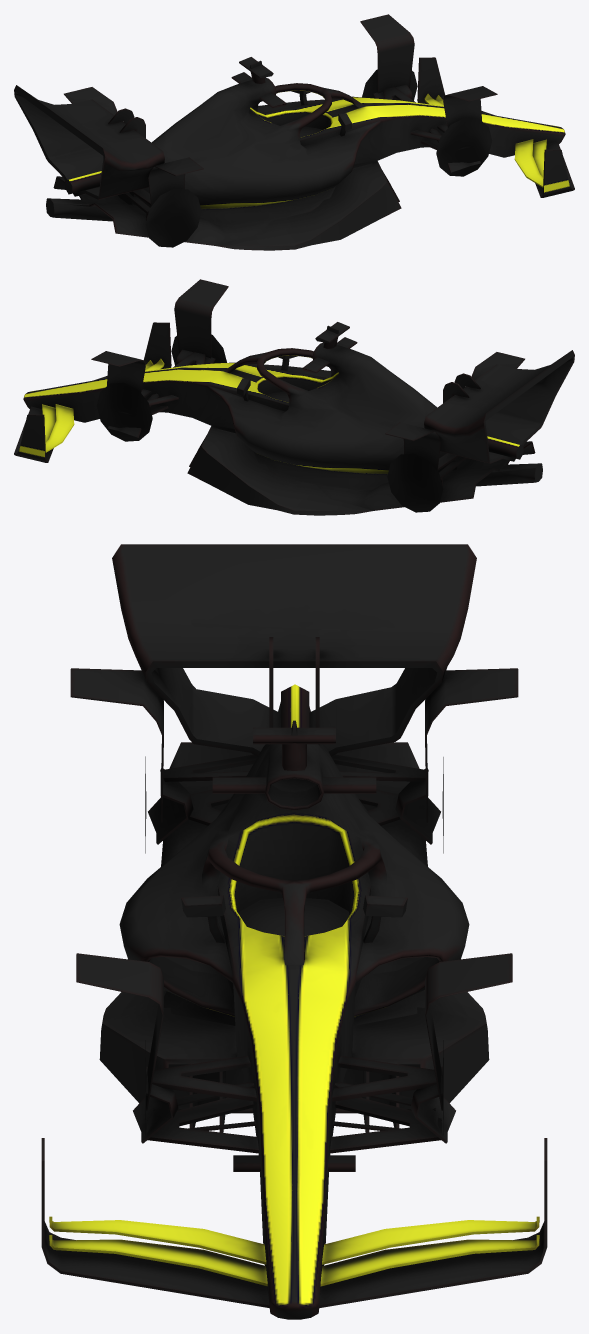
The model's file is f1_car_16.dae.
3 views of the same model, one above another, from view 1: azimuth 30°, elevation 25°; view 2: azimuth 150°, elevation 25°; view 3: azimuth 270°, elevation 25° (orthographic). The views are drawn at different scales.
Visible parts, largest first — view 1: F1_Car; view 2: F1_Car; view 3: F1_Car.
Boxes of the visible parts, x1,y1,x2,y2 form: F1_Car: (14,14,574,250); F1_Car: (14,279,574,515); F1_Car: (41,544,547,1319).
Size of the model in its own units: 34.44 by 14.7 by 9.69.
1 material, 1 textured.
